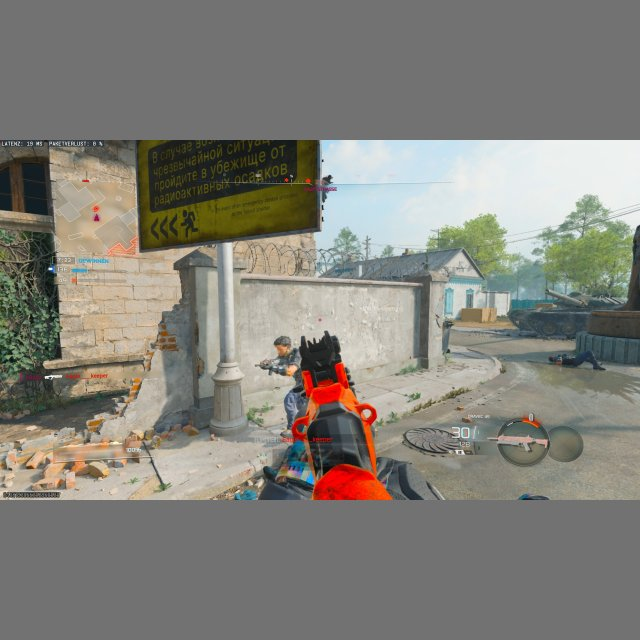head: (274, 336, 291, 355)
